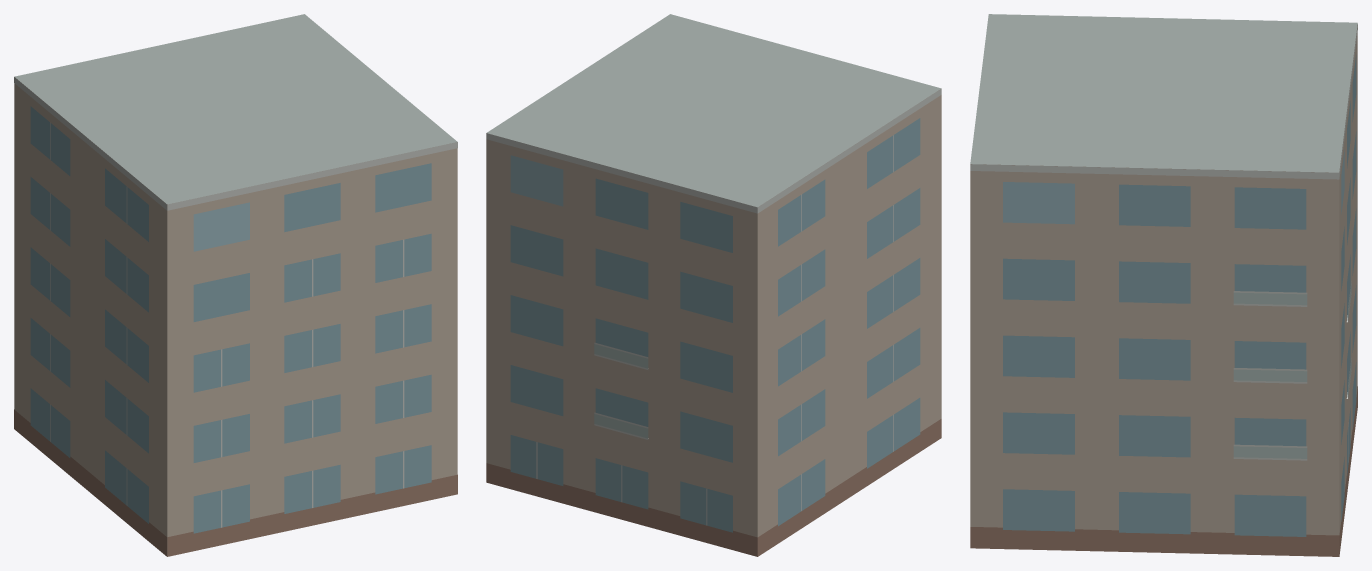
Rendered from survey-upis-32690548.glb.
3 views of the same model, side by side, from view 1: azimuth 30°, elevation 25°; view 2: azimuth 150°, elevation 25°; view 3: azimuth 270°, elevation 25° (orthographic). The views are drawn at different scales.
Visible parts, largest first — view 1: survey-upis-32690548.tmp; view 2: survey-upis-32690548.tmp; view 3: survey-upis-32690548.tmp.
Boxes of the visible parts, x1,y1,x2,y2 form: survey-upis-32690548.tmp: [14, 14, 457, 556]; survey-upis-32690548.tmp: [486, 14, 941, 556]; survey-upis-32690548.tmp: [970, 14, 1357, 556].
Size of the model in its own units: 12.15 by 13.7 by 12.54.
